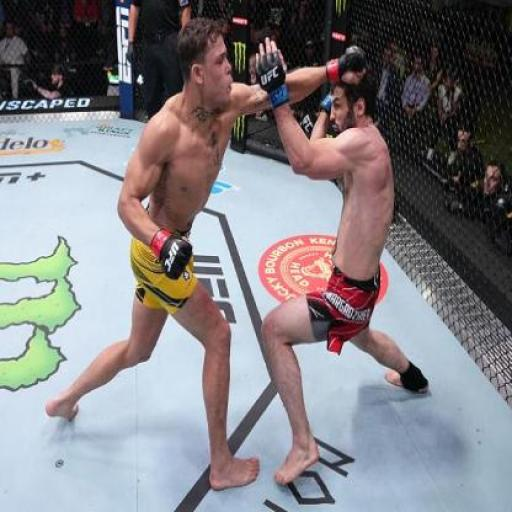Fighting: (49, 13, 437, 493)
